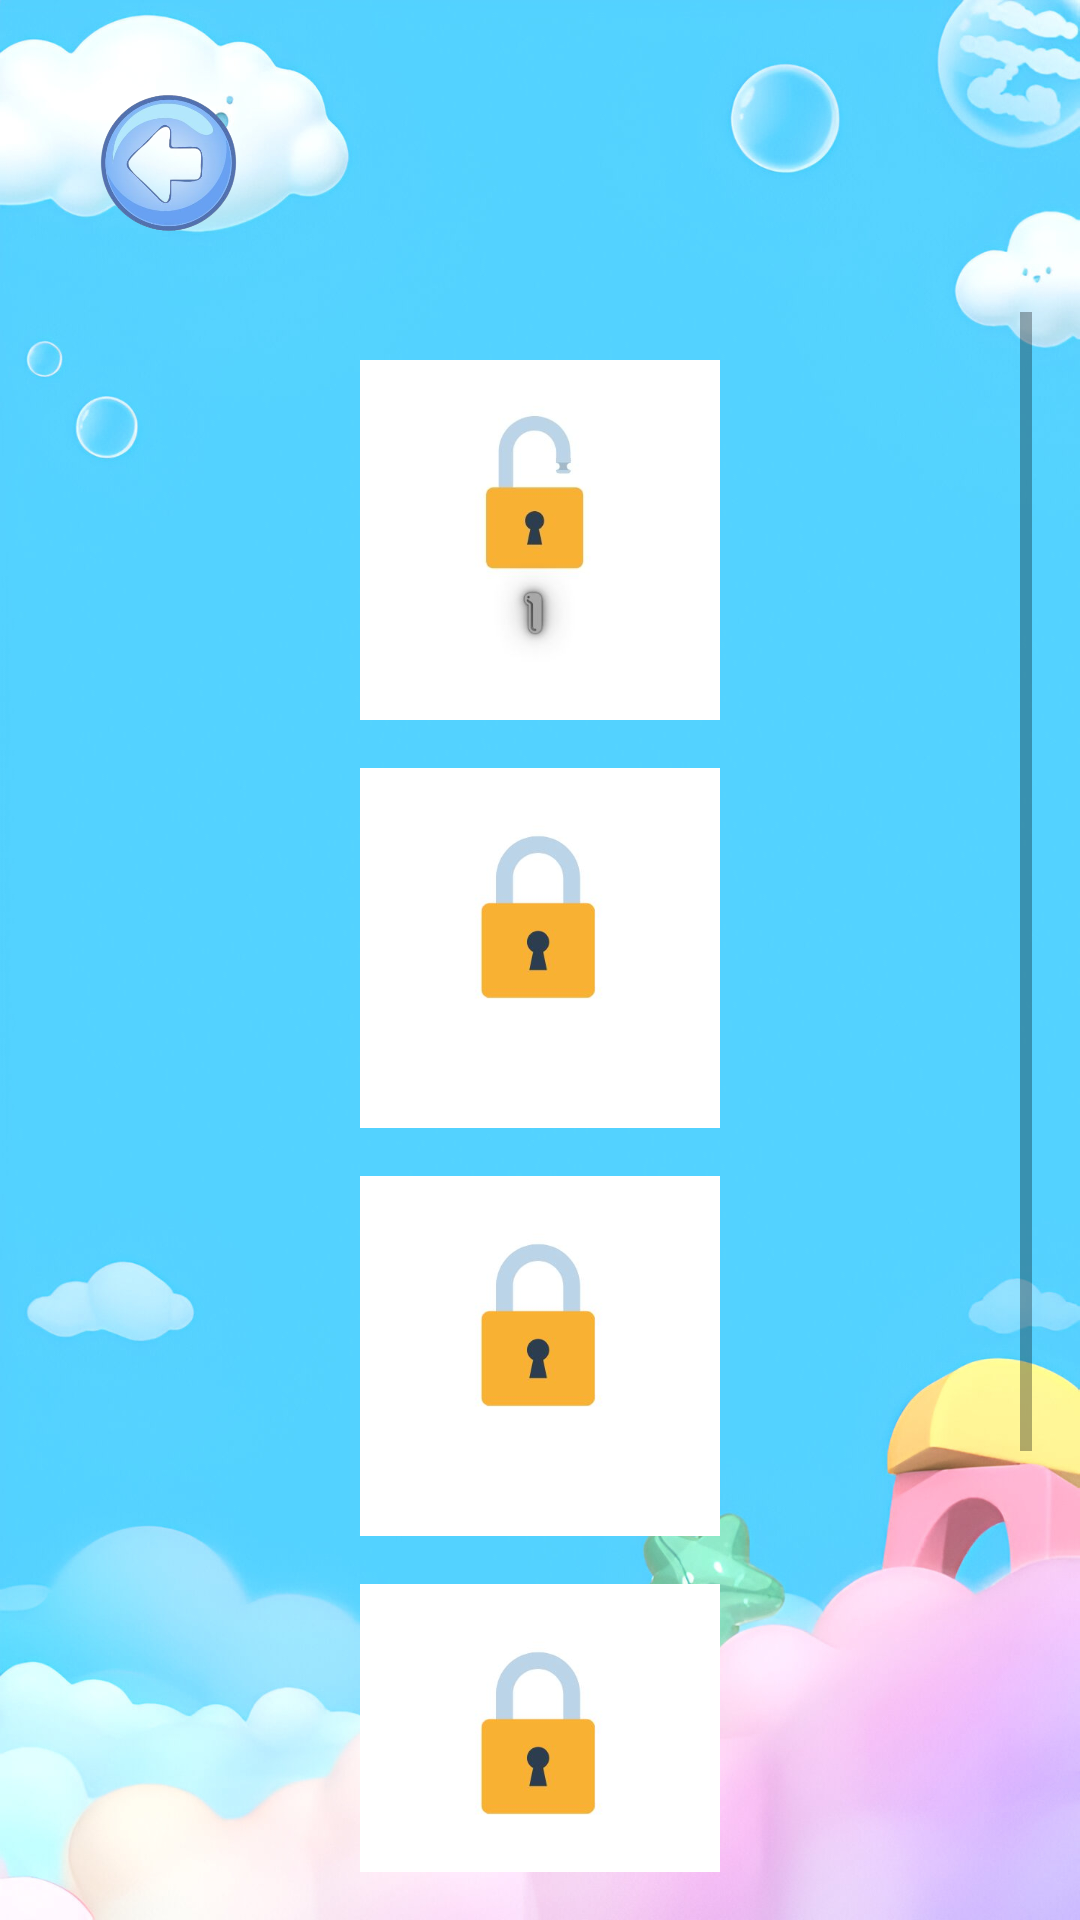

Icons on this 1080×1920 Android screen, each with the point to tap as (x=x, y=y):
Back: (x=168, y=168)
